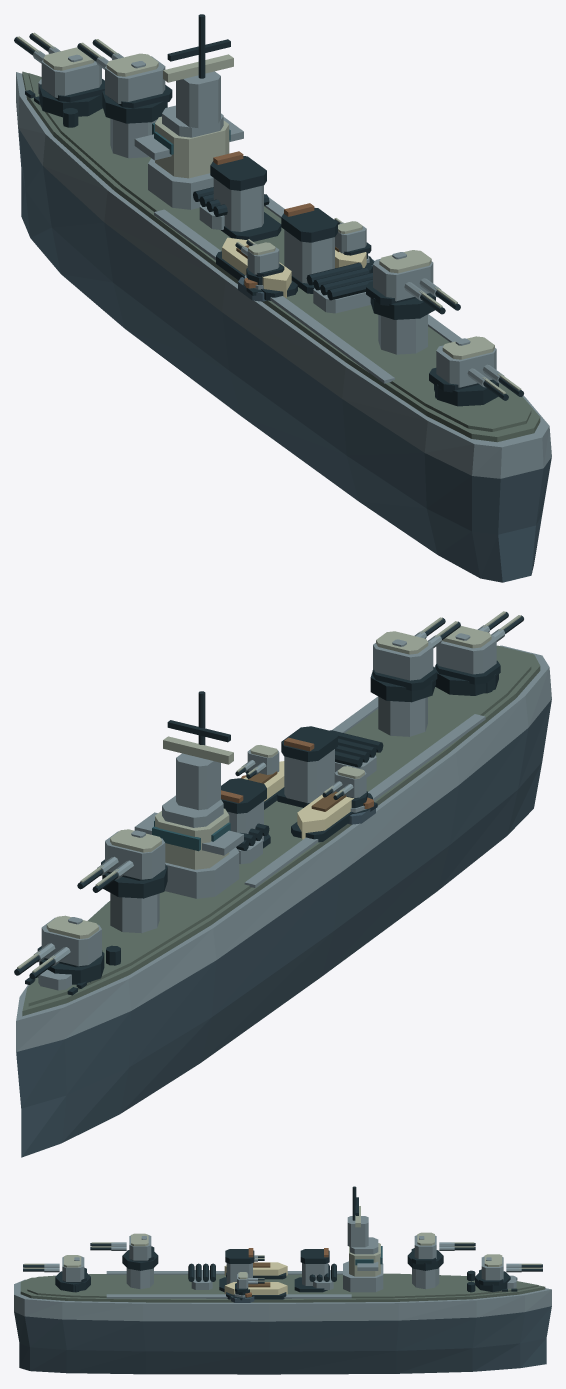
The model's file is historic-porter.glb.
3 views of the same model, one above another, from view 1: azimuth 30°, elevation 25°; view 2: azimuth 150°, elevation 25°; view 3: azimuth 270°, elevation 25° (orthographic). The views are drawn at different scales.
Visible parts, largest first — view 1: historic-porter-historic-porter-geometry, historic-porter-part_bridge.123-geometry, historic-porter-turret_main_1.085-geometry, historic-porter-turret_main_2.071-geometry, historic-porter-turret_main_3.046-geometry, historic-porter-turret_main_0.092-geometry, historic-porter-historic_funnel_0.116-geometry, historic-porter-historic_funnel_1.066-geometry, historic-porter-torpedo_bank_0.032-geometry, historic-porter-turret_aa_aa-port.125-geometry, historic-porter-turret_aa_aa-starboard.121-geometry, historic-porter-torpedo_bank_1.029-geometry; view 2: historic-porter-historic-porter-geometry, historic-porter-part_bridge.123-geometry, historic-porter-turret_main_2.071-geometry, historic-porter-turret_main_3.046-geometry, historic-porter-turret_main_1.085-geometry, historic-porter-turret_main_0.092-geometry, historic-porter-historic_funnel_1.066-geometry, historic-porter-historic_funnel_0.116-geometry, historic-porter-torpedo_bank_0.032-geometry, historic-porter-turret_aa_aa-port.125-geometry, historic-porter-turret_aa_aa-starboard.121-geometry, historic-porter-torpedo_bank_1.029-geometry; view 3: historic-porter-historic-porter-geometry, historic-porter-part_bridge.123-geometry, historic-porter-turret_main_1.085-geometry, historic-porter-turret_main_2.071-geometry, historic-porter-turret_main_0.092-geometry, historic-porter-turret_main_3.046-geometry, historic-porter-historic_funnel_0.116-geometry, historic-porter-historic_funnel_1.066-geometry, historic-porter-torpedo_bank_0.032-geometry, historic-porter-torpedo_bank_1.029-geometry, historic-porter-turret_aa_aa-starboard.121-geometry.
Boxes of the visible parts, x1,y1,x2,y2 form: historic-porter-historic-porter-geometry: [16, 71, 551, 582]; historic-porter-part_bridge.123-geometry: [134, 14, 243, 209]; historic-porter-turret_main_1.085-geometry: [77, 39, 172, 123]; historic-porter-turret_main_2.071-geometry: [366, 250, 460, 319]; historic-porter-turret_main_3.046-geometry: [429, 336, 523, 406]; historic-porter-turret_main_0.092-geometry: [14, 32, 104, 117]; historic-porter-historic_funnel_0.116-geometry: [210, 151, 281, 241]; historic-porter-historic_funnel_1.066-geometry: [281, 203, 337, 293]; historic-porter-torpedo_bank_0.032-geometry: [306, 262, 372, 313]; historic-porter-turret_aa_aa-port.125-geometry: [235, 239, 284, 285]; historic-porter-turret_aa_aa-starboard.121-geometry: [334, 218, 371, 258]; historic-porter-torpedo_bank_1.029-geometry: [193, 187, 269, 229]; historic-porter-historic-porter-geometry: [16, 645, 551, 1157]; historic-porter-part_bridge.123-geometry: [134, 691, 243, 898]; historic-porter-turret_main_2.071-geometry: [370, 617, 460, 702]; historic-porter-turret_main_3.046-geometry: [435, 611, 523, 695]; historic-porter-turret_main_1.085-geometry: [77, 829, 167, 898]; historic-porter-turret_main_0.092-geometry: [14, 915, 104, 984]; historic-porter-historic_funnel_1.066-geometry: [276, 726, 337, 807]; historic-porter-historic_funnel_0.116-geometry: [221, 778, 270, 848]; historic-porter-torpedo_bank_0.032-geometry: [330, 730, 383, 777]; historic-porter-turret_aa_aa-port.125-geometry: [322, 766, 367, 808]; historic-porter-turret_aa_aa-starboard.121-geometry: [235, 745, 279, 778]; historic-porter-torpedo_bank_1.029-geometry: [236, 823, 269, 864]; historic-porter-historic-porter-geometry: [14, 1262, 551, 1374]; historic-porter-part_bridge.123-geometry: [343, 1186, 383, 1292]; historic-porter-turret_main_1.085-geometry: [407, 1232, 475, 1270]; historic-porter-turret_main_2.071-geometry: [90, 1233, 158, 1270]; historic-porter-turret_main_0.092-geometry: [475, 1254, 542, 1292]; historic-porter-turret_main_3.046-geometry: [23, 1255, 90, 1292]; historic-porter-historic_funnel_0.116-geometry: [294, 1248, 329, 1292]; historic-porter-historic_funnel_1.066-geometry: [219, 1248, 254, 1292]; historic-porter-torpedo_bank_0.032-geometry: [188, 1263, 215, 1289]; historic-porter-torpedo_bank_1.029-geometry: [309, 1263, 336, 1289]; historic-porter-turret_aa_aa-starboard.121-geometry: [235, 1272, 264, 1295].
Size of the model in its own units: 0.5914 by 1.49 by 4.11.
